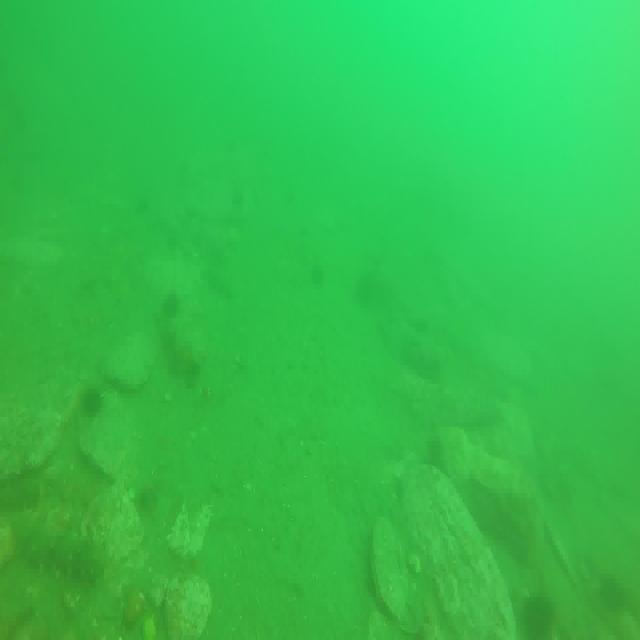echinus: (521, 602, 552, 640), (602, 576, 620, 612), (84, 388, 100, 416), (164, 294, 180, 312), (308, 262, 323, 280)
holothurian: (22, 520, 114, 578)
